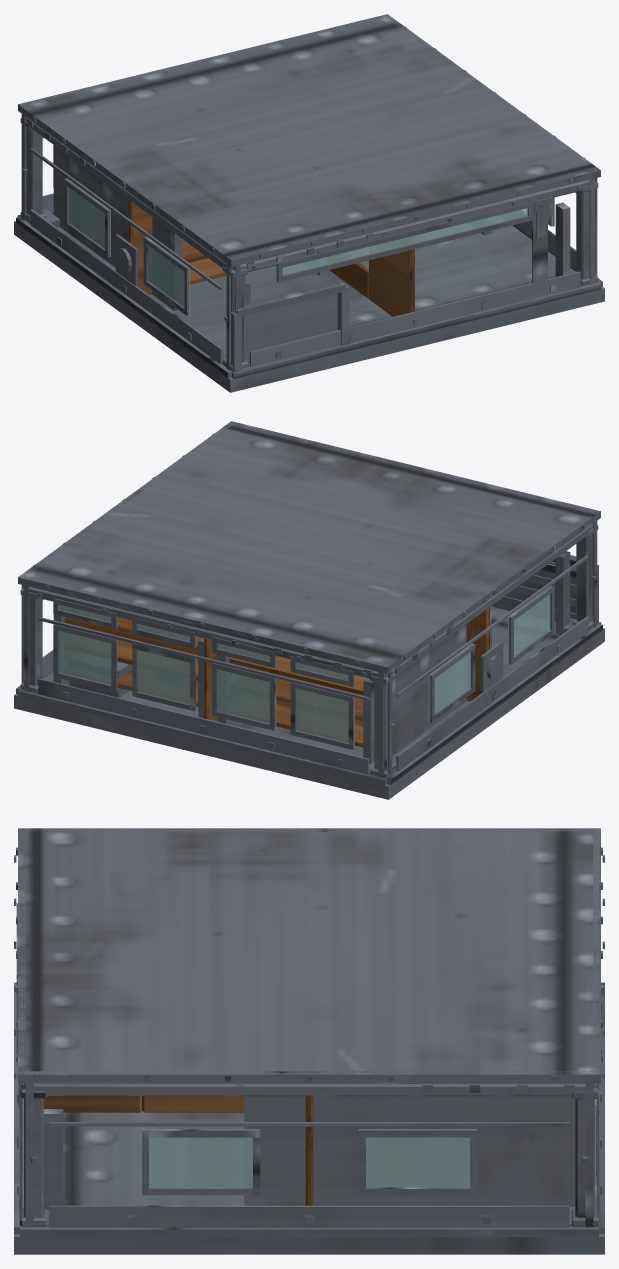
3 views of the same model, one above another, from view 1: azimuth 30°, elevation 25°; view 2: azimuth 150°, elevation 25°; view 3: azimuth 270°, elevation 25° (orthographic). The views are drawn at different scales.
Parts seen in each view (by area): view 1: SM_HDBF_BoxFarm_Advanced_LOD0; view 2: SM_HDBF_BoxFarm_Advanced_LOD0; view 3: SM_HDBF_BoxFarm_Advanced_LOD0.
Part boxes in pixels (x1,y1,x2,y2): SM_HDBF_BoxFarm_Advanced_LOD0: [14, 14, 604, 392]; SM_HDBF_BoxFarm_Advanced_LOD0: [14, 421, 604, 799]; SM_HDBF_BoxFarm_Advanced_LOD0: [14, 828, 604, 1254].
Bounding box in the file's own units: 3 × 1 × 3.
Materials: 4 (4 with a texture image).
